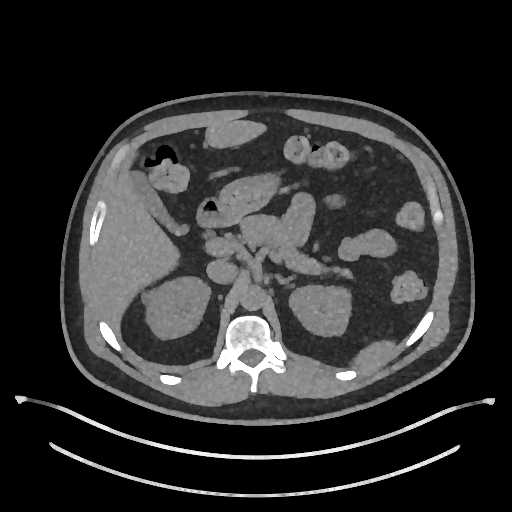Lesion: (138, 285, 163, 308)
